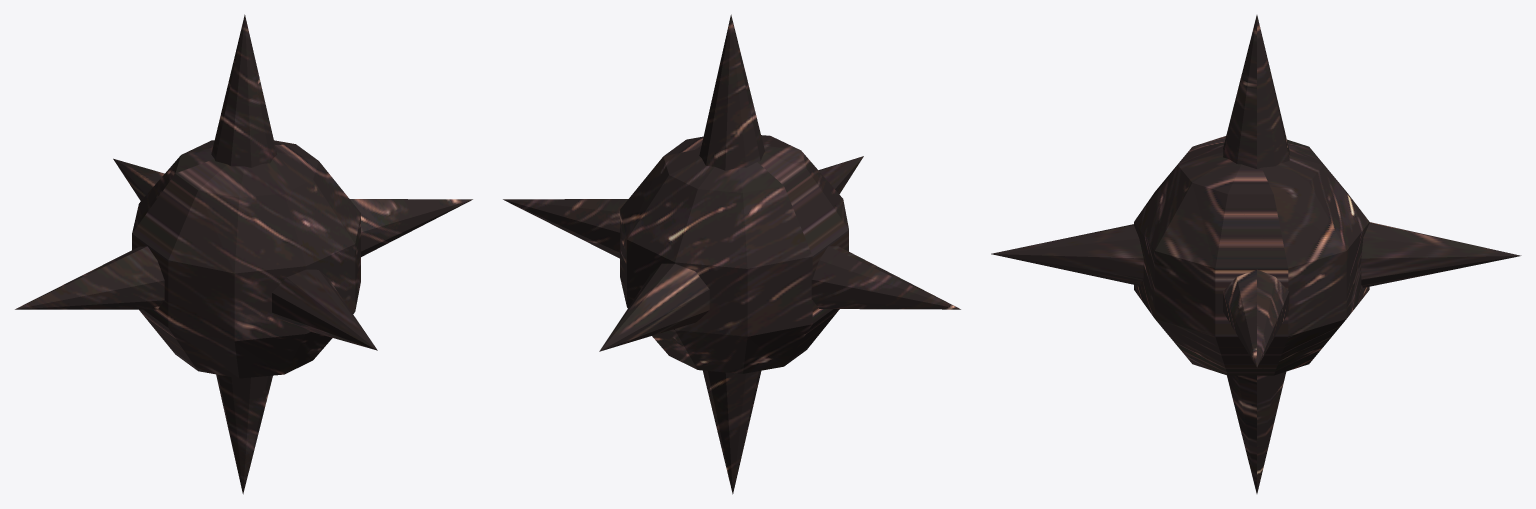
File: Mine.glb
3 views of the same model, side by side, from view 1: azimuth 30°, elevation 25°; view 2: azimuth 150°, elevation 25°; view 3: azimuth 270°, elevation 25° (orthographic).
Visible parts, largest first — view 1: Mine; view 2: Mine; view 3: Mine.
Boxes of the visible parts, left/top/right/bottom form: Mine: left=15, top=14, right=472, bottom=494; Mine: left=503, top=14, right=960, bottom=494; Mine: left=991, top=15, right=1521, bottom=493.
Bounding box in the file's own units: 33.69 × 33.69 × 33.69.
Materials: 1 (1 with a texture image).
